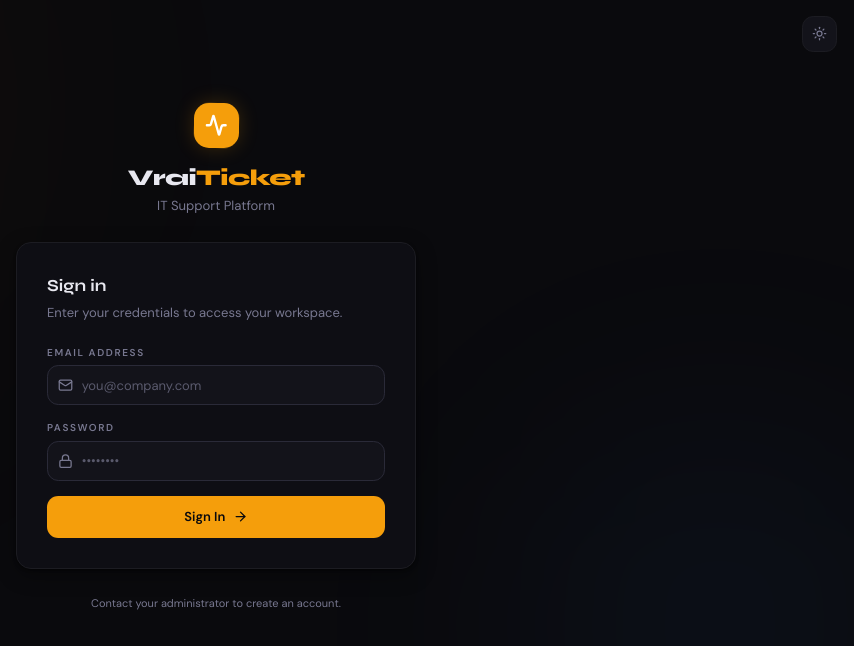
Scenario: LoginPage — validation › shows 'Invalid email address' for bad format
The image size is (854, 646).
Type "bad" into the field with placeholder "you@company.com" at (216, 385), box [47, 365, 385, 405]
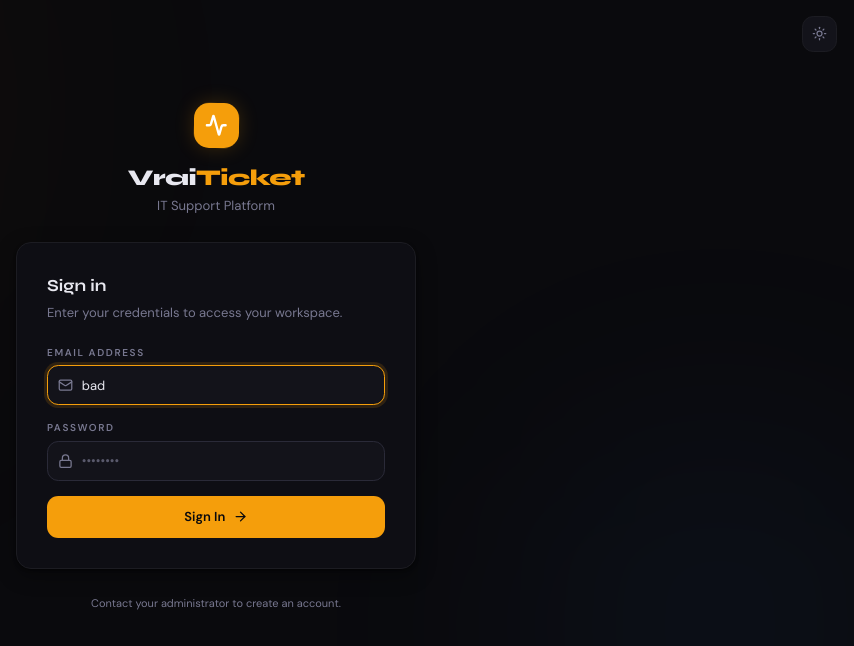
Submit the form, box [47, 344, 385, 538]
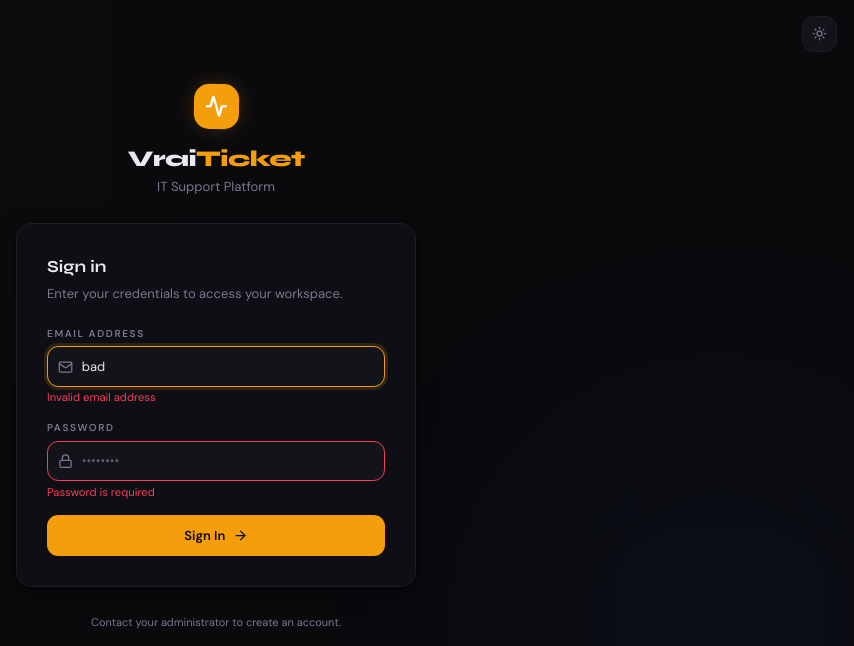
Now the text "Invalid email address" is shown, box [47, 390, 156, 404]
